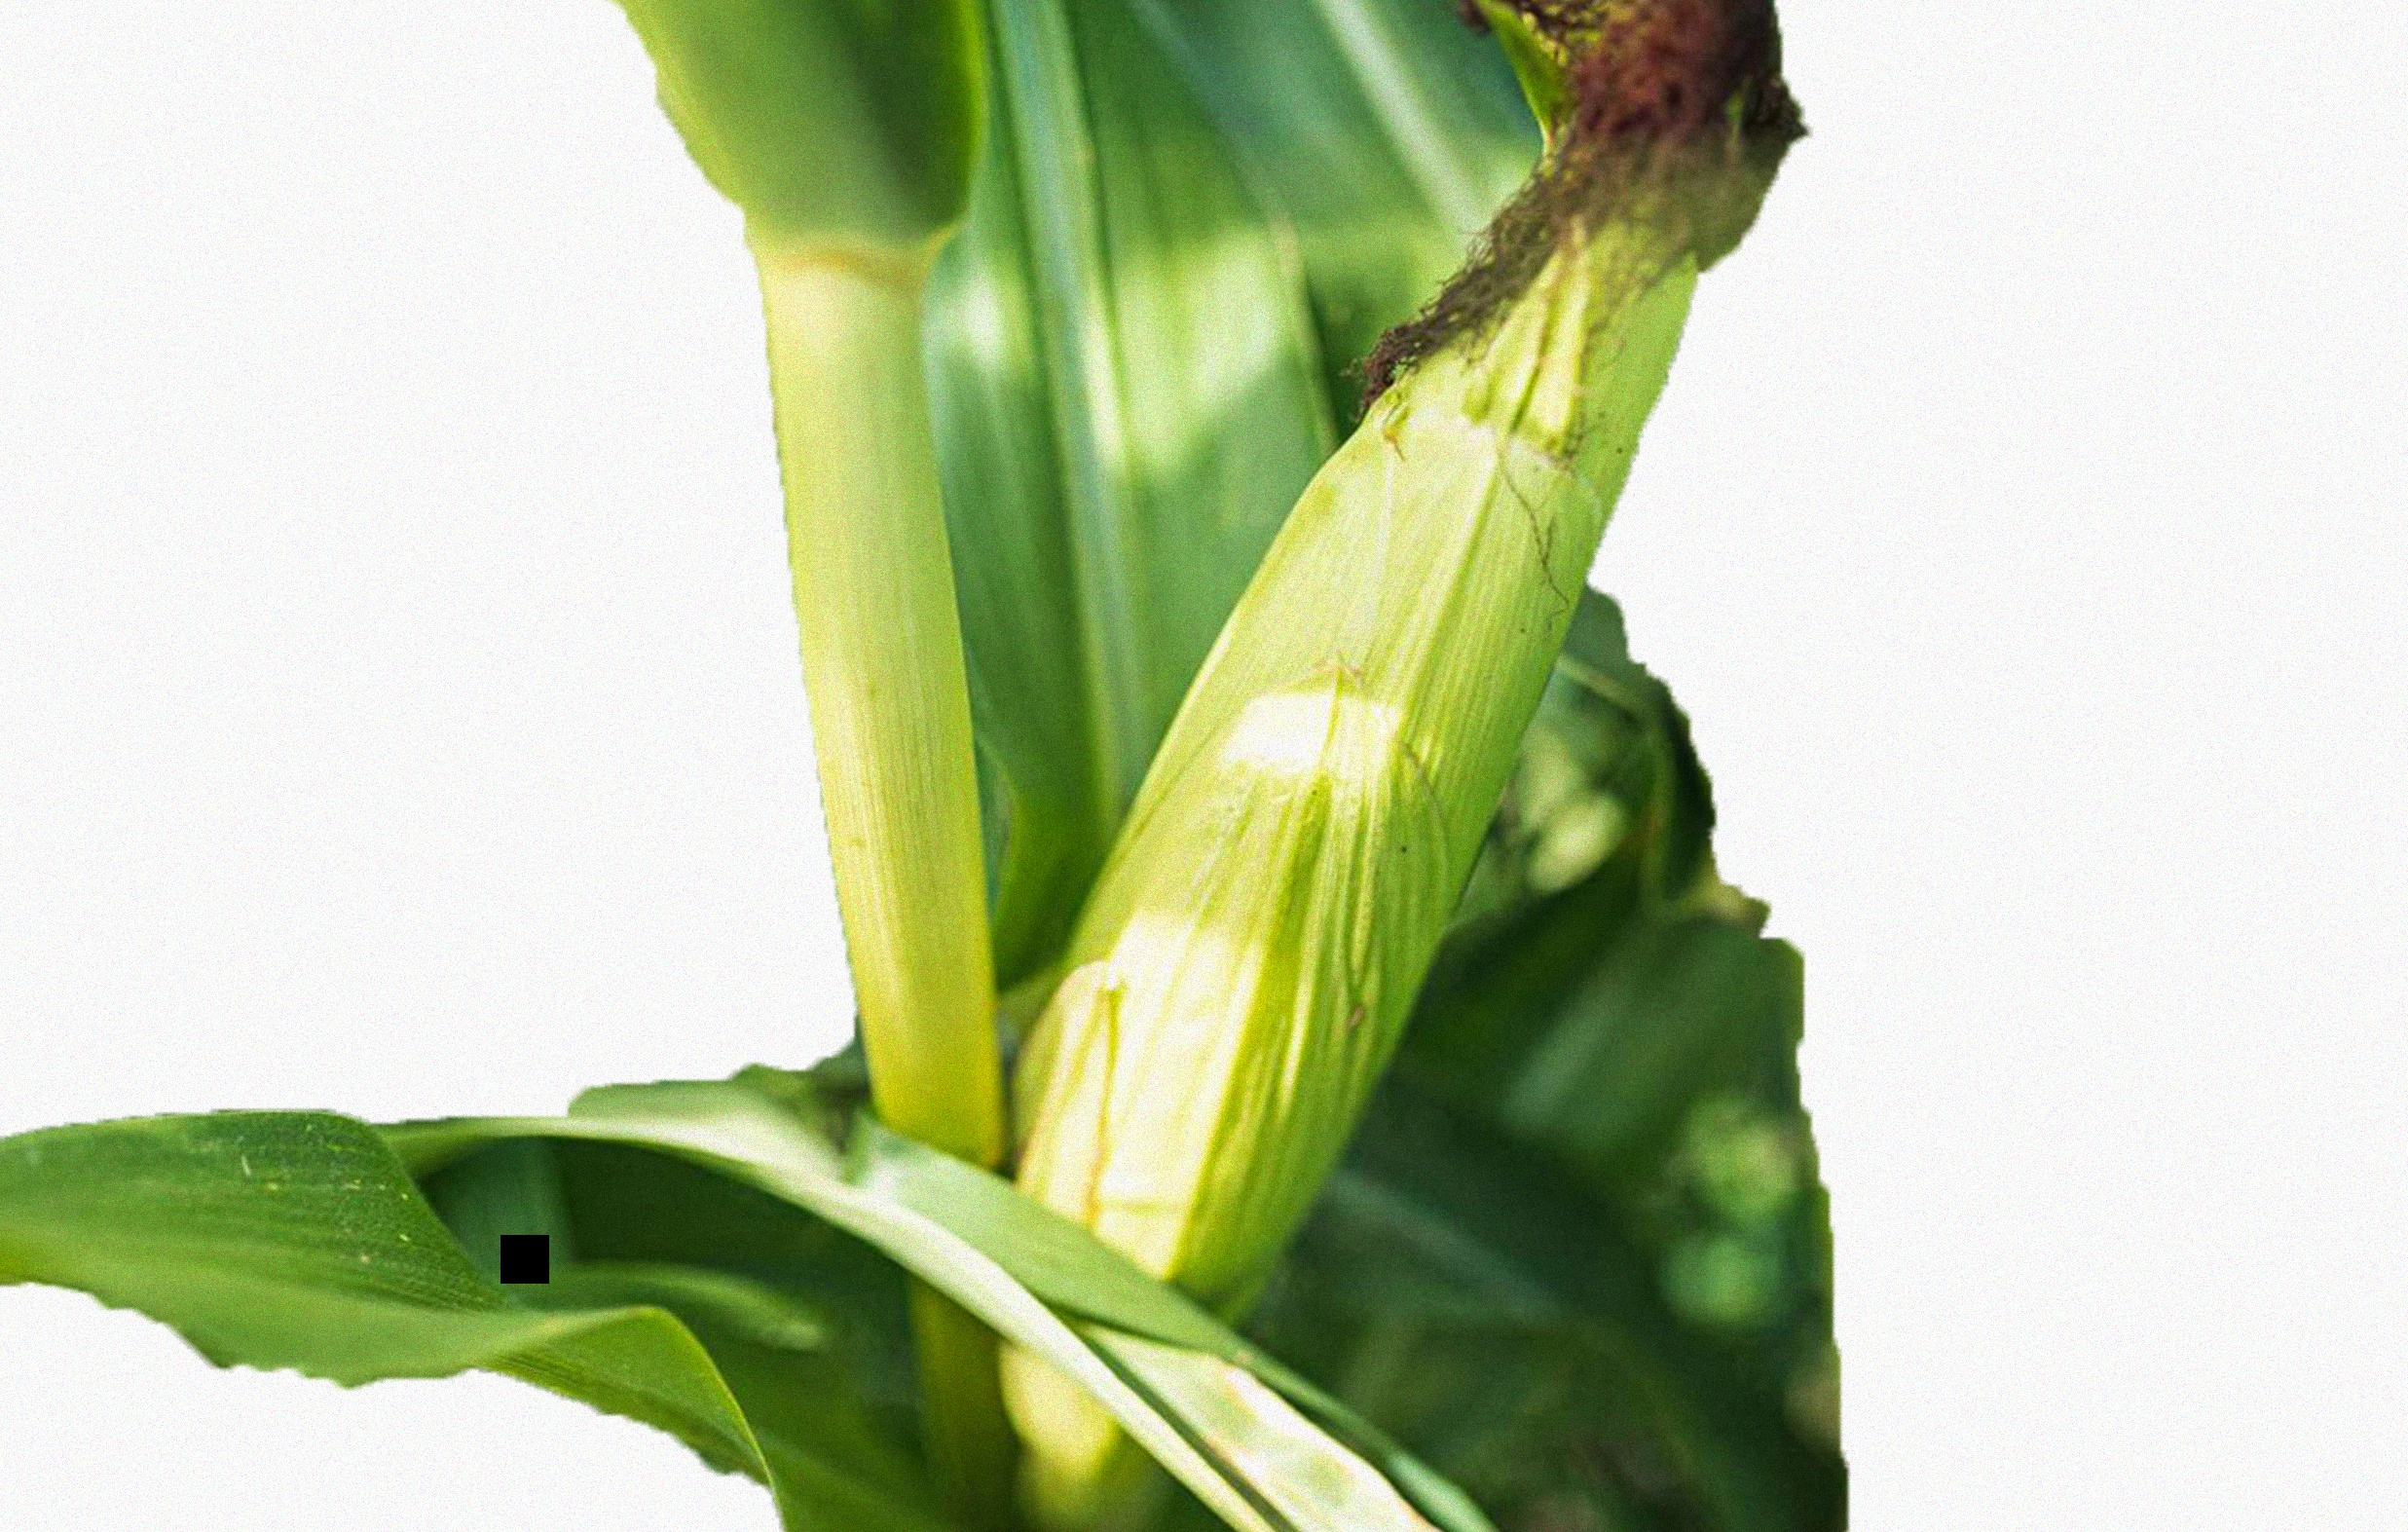corn_plant: (837, 18, 1767, 1511)
